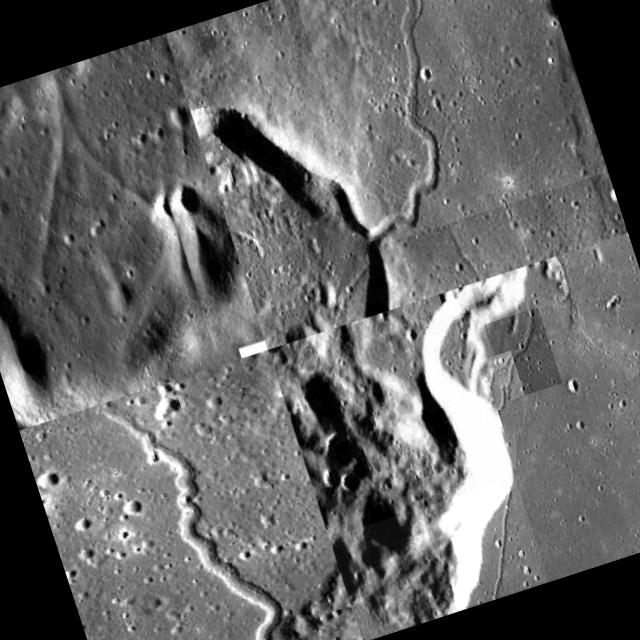rille: (293, 0, 606, 247), (53, 370, 302, 640), (0, 69, 154, 414), (328, 477, 548, 640), (484, 308, 562, 401), (474, 350, 526, 408), (490, 382, 512, 410)
